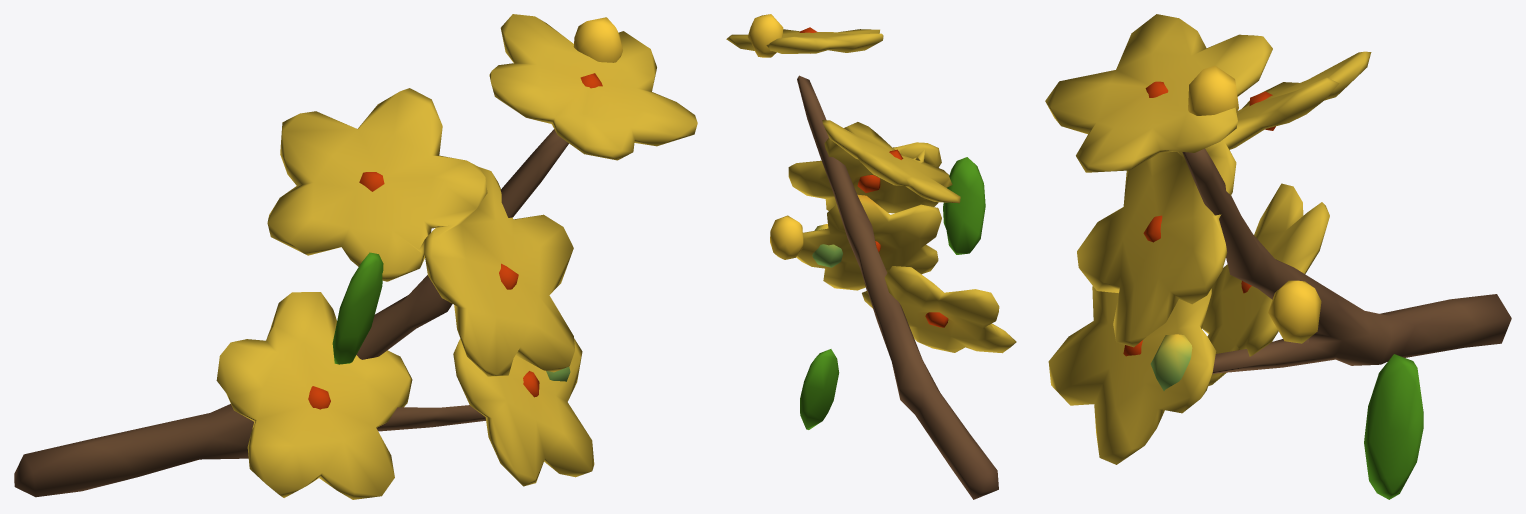
Rendered from canhmai.glb.
3 views of the same model, side by side, from view 1: azimuth 30°, elevation 25°; view 2: azimuth 150°, elevation 25°; view 3: azimuth 270°, elevation 25° (orthographic). The views are drawn at different scales.
Parts seen in each view (by area): view 1: Hoa_Mai, Canh_Go, La_Non, Nu_Mai, Nhuy_Mai; view 2: Hoa_Mai, Canh_Go, La_Non, Nu_Mai, Nhuy_Mai; view 3: Hoa_Mai, Canh_Go, La_Non, Nu_Mai, Nhuy_Mai.
Part boxes in pixels (box(x1,y1,x2,y2)): Hoa_Mai: box(216, 14, 697, 499); Canh_Go: box(14, 129, 568, 497); La_Non: box(332, 252, 383, 364); Nu_Mai: box(546, 17, 622, 381); Nhuy_Mai: box(308, 73, 602, 409); Hoa_Mai: box(726, 29, 1016, 353); Canh_Go: box(797, 75, 998, 499); La_Non: box(800, 157, 985, 429); Nu_Mai: box(747, 14, 842, 267); Nhuy_Mai: box(799, 27, 948, 327); Hoa_Mai: box(1045, 14, 1371, 464); Canh_Go: box(1182, 148, 1511, 374); La_Non: box(1364, 354, 1423, 499); Nu_Mai: box(1150, 65, 1321, 390); Nhuy_Mai: box(1123, 81, 1275, 356).
Bounding box in the file's own units: 0.1036 × 0.0943 × 0.0788.
